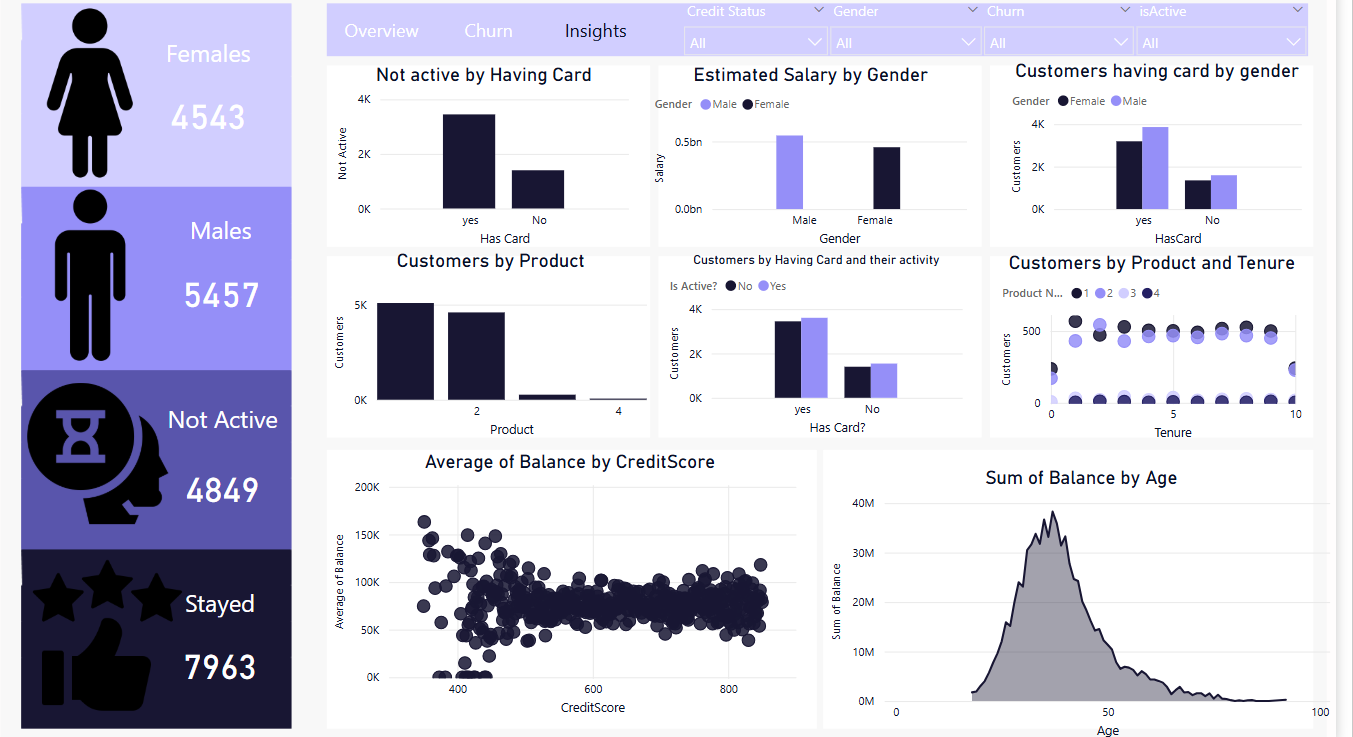

Layout of this report page (visuals, bound fields, positions):
{"tool":"powerbi","page":{"name":"Insights","canvas":[1280,720],"ordinal":2},"visuals":[{"type":"image","box":[0,0,1279.8,720.2],"z":0},{"type":"scatterChart","fields":{"X":["Churn_Modelling.CreditScore"],"Y":["Churn_Modelling.Balance"]},"box":[321.4,440.5,458.3,257.1],"z":1000},{"type":"clusteredColumnChart","title":"Customers by Having Card and their activity","fields":{"Category":["Churn_Modelling.HasCard"],"Series":["Churn_Modelling.isActive"],"Y":["CountNonNull(Churn_Modelling.CustomerId)"]},"box":[640.5,251.2,289.3,179.8],"z":2000},{"type":"clusteredColumnChart","title":"Not active by Having Card","fields":{"Y":["measure_table.notActive"],"Category":["Churn_Modelling.HasCard"]},"box":[325,71.4,286.9,179.8],"z":3000},{"type":"clusteredColumnChart","title":"Estimated Salary by Gender ","fields":{"Category":["Churn_Modelling.Gender"],"Y":["Sum(Churn_Modelling.EstimatedSalary)"],"Series":["Churn_Modelling.Gender"]},"box":[626.2,71.4,307.1,179.8],"z":4000},{"type":"lineChart","fields":{"Y":["Sum(Churn_Modelling.Balance)"],"Category":["Churn_Modelling.Age"]},"box":[795.2,456,484.5,264.3],"z":5000},{"type":"clusteredColumnChart","title":"Customers having card by gender","fields":{"Category":["Churn_Modelling.HasCard"],"Series":["Churn_Modelling.Gender"],"Y":["CountNonNull(Churn_Modelling.CustomerId)"]},"box":[966.7,67.9,285.7,183.3],"z":6000},{"type":"scatterChart","title":"Customers by Product and Tenure","fields":{"Y":["Churn_Modelling.CustomerId"],"X":["Churn_Modelling.Tenure"],"Series":["Churn_Modelling.NumOfProducts"]},"box":[957.1,251.2,295.2,184.5],"z":7000},{"type":"card","title":"Females","fields":{"Values":["measure_table.Female"]},"box":[109.5,45.2,192.9,120.2],"z":8000},{"type":"card","title":"Males","fields":{"Values":["measure_table.Males"]},"box":[132.1,214.3,171.4,120.2],"z":9000},{"type":"clusteredColumnChart","title":"Customers by Product","fields":{"Y":["CountNonNull(Churn_Modelling.CustomerId)"],"Category":["Churn_Modelling.NumOfProducts"]},"box":[321.4,248.8,307.1,184.5],"z":11000},{"type":"slicer","fields":{"Values":["Churn_Modelling.CreditStatus"]},"box":[648.8,7.1,157.1,64.3],"z":11001},{"type":"slicer","fields":{"Values":["Churn_Modelling.Gender"]},"box":[788.1,7.1,164.3,64.3],"z":11002},{"type":"slicer","fields":{"Values":["Churn_Modelling.Churn"]},"box":[934.5,7.1,163.1,67.9],"z":11003},{"type":"slicer","fields":{"Values":["Churn_Modelling.isActive"]},"box":[1079.8,7.1,182.1,67.9],"z":11004},{"type":"pageNavigator","box":[325,14.3,298.8,50],"z":11005},{"type":"card","title":"Not Active","fields":{"Values":["measure_table.notActive"]},"box":[120.2,394,198.8,133.3],"z":11006},{"type":"card","title":"Stayed","fields":{"Values":["measure_table.stay"]},"box":[101.2,569.1,232.1,120.2],"z":11007},{"type":"image","box":[10.7,527.4,197.6,176.2],"z":11009},{"type":"image","box":[3.6,0,179.8,200],"z":11011},{"type":"image","box":[7.1,153.6,172.6,240.5],"z":11012},{"type":"image","box":[9.5,371.4,182.1,144],"z":11013}]}

Visuals, with their boxes on the page's 1280x720 design canvas (x1, y1, x2, y2). These are canvas units, not pixel positions in the 1353x737 screenshot, which may show the page scaled, cropped or inside an application window:
image: <bbox>0, 0, 1280, 720</bbox>
scatterChart - Churn_Modelling.CreditScore x Churn_Modelling.Balance: <bbox>321, 440, 780, 698</bbox>
"Customers by Having Card and their activity" clusteredColumnChart: <bbox>640, 251, 930, 431</bbox>
"Not active by Having Card" clusteredColumnChart: <bbox>325, 71, 612, 251</bbox>
"Estimated Salary by Gender " clusteredColumnChart: <bbox>626, 71, 933, 251</bbox>
lineChart - Sum(Churn_Modelling.Balance) x Churn_Modelling.Age: <bbox>795, 456, 1280, 720</bbox>
"Customers having card by gender" clusteredColumnChart: <bbox>967, 68, 1252, 251</bbox>
"Customers by Product and Tenure" scatterChart: <bbox>957, 251, 1252, 436</bbox>
"Females" card: <bbox>110, 45, 302, 165</bbox>
"Males" card: <bbox>132, 214, 304, 334</bbox>
"Customers by Product" clusteredColumnChart: <bbox>321, 249, 628, 433</bbox>
slicer - Churn_Modelling.CreditStatus: <bbox>649, 7, 806, 71</bbox>
slicer - Churn_Modelling.Gender: <bbox>788, 7, 952, 71</bbox>
slicer - Churn_Modelling.Churn: <bbox>934, 7, 1098, 75</bbox>
slicer - Churn_Modelling.isActive: <bbox>1080, 7, 1262, 75</bbox>
pageNavigator: <bbox>325, 14, 624, 64</bbox>
"Not Active" card: <bbox>120, 394, 319, 527</bbox>
"Stayed" card: <bbox>101, 569, 333, 689</bbox>
image: <bbox>11, 527, 208, 704</bbox>
image: <bbox>4, 0, 183, 200</bbox>
image: <bbox>7, 154, 180, 394</bbox>
image: <bbox>10, 371, 192, 515</bbox>
